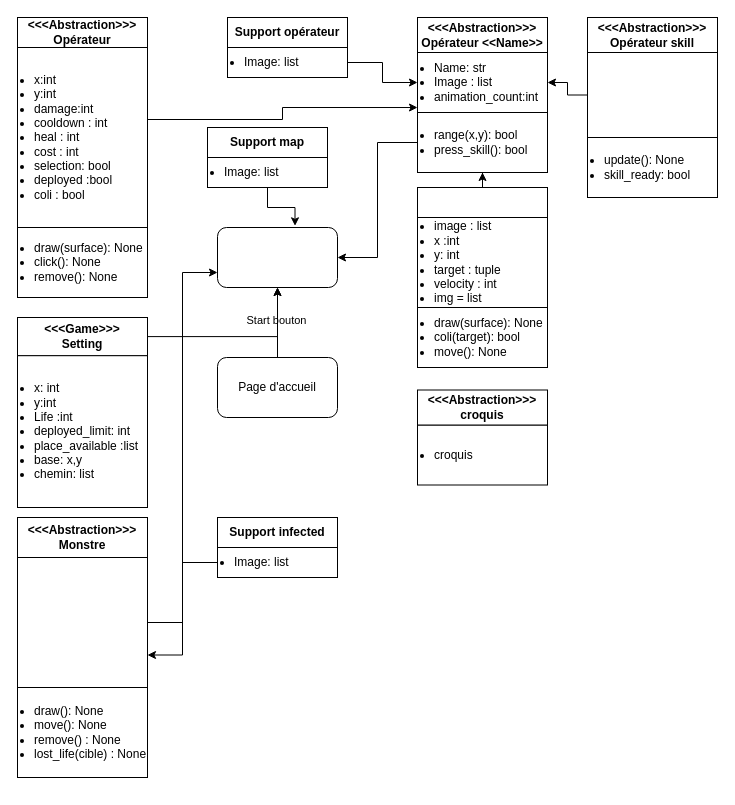
The diagram is 735 pixels wide and 805 high, and some of its shapes have lost their labels. Here are the shapes that lost their labels. From the top down, the box of each, then its label:
(586, 52, 718, 138): Name: str description: str cd: int image: list
(416, 186, 548, 218): Projectile
(216, 226, 338, 288): Niveau 1
(16, 556, 148, 688): x:int y:int animation_count:int velocity:int destination: x , y life :int
